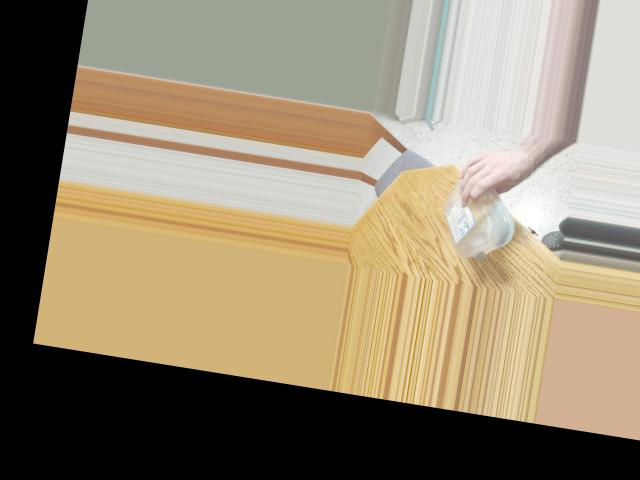cheese: (432, 162, 521, 266)
